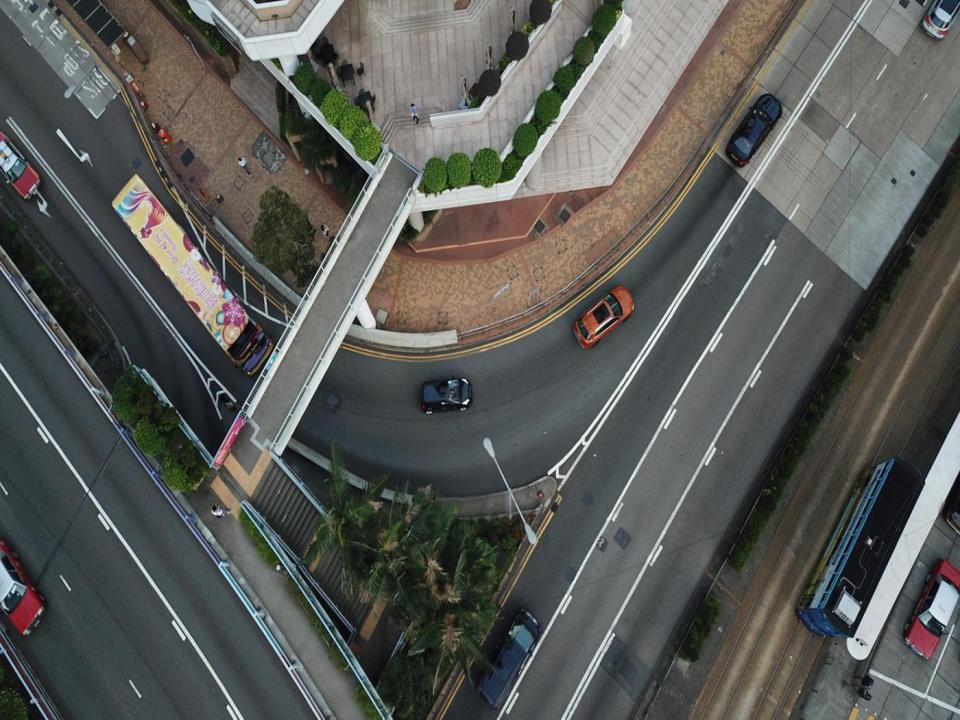bus: (111, 175, 274, 378), (797, 458, 925, 640)
car: (476, 609, 540, 708), (903, 558, 959, 659), (0, 535, 47, 637), (726, 93, 782, 165), (573, 287, 634, 349), (0, 129, 40, 201), (420, 375, 472, 414), (920, 0, 958, 40)
